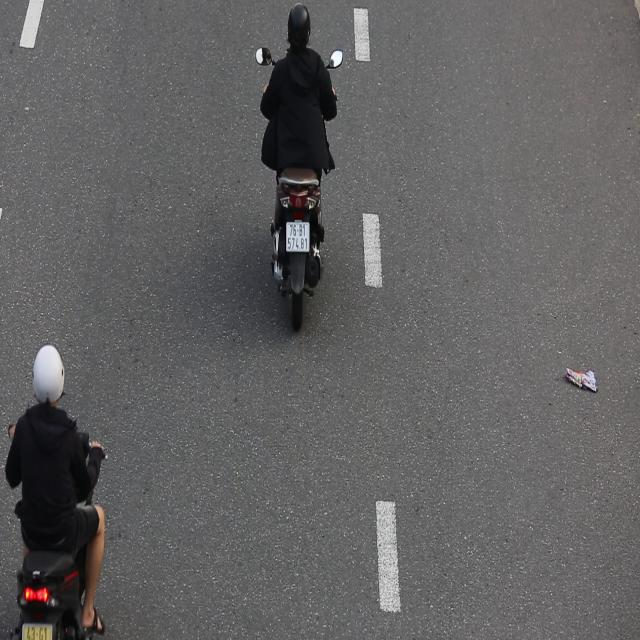motorbike: (252, 0, 352, 335)
